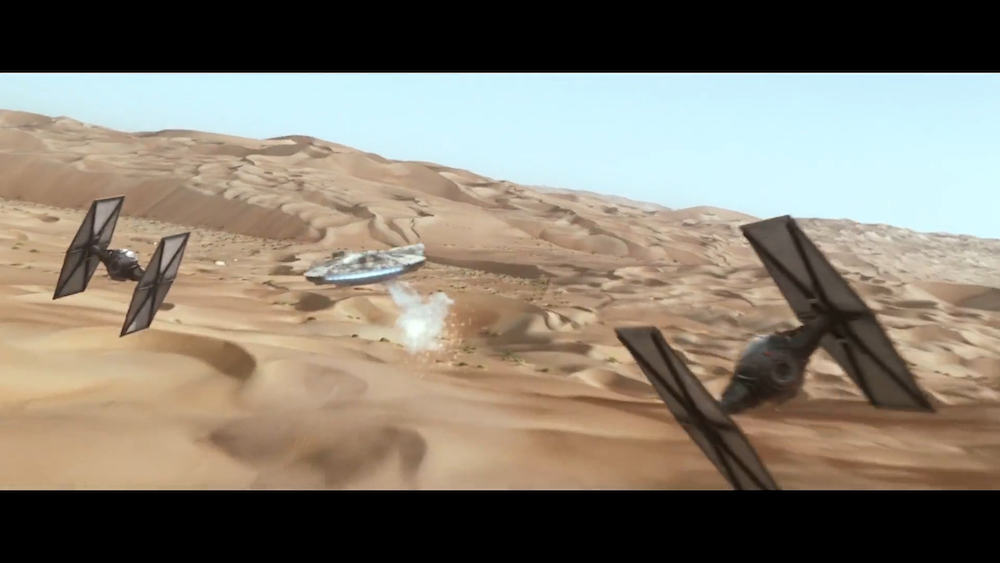Millennium Falcon: (304, 243, 428, 289)
Tie Fighter: (616, 217, 938, 490), (53, 195, 193, 339)
